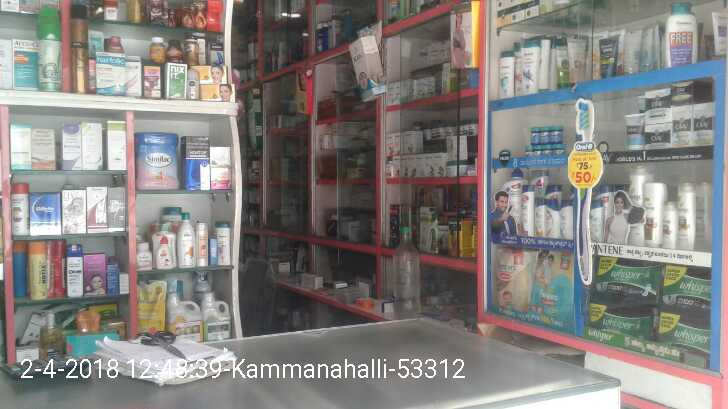vicks: (523, 123, 570, 159)
